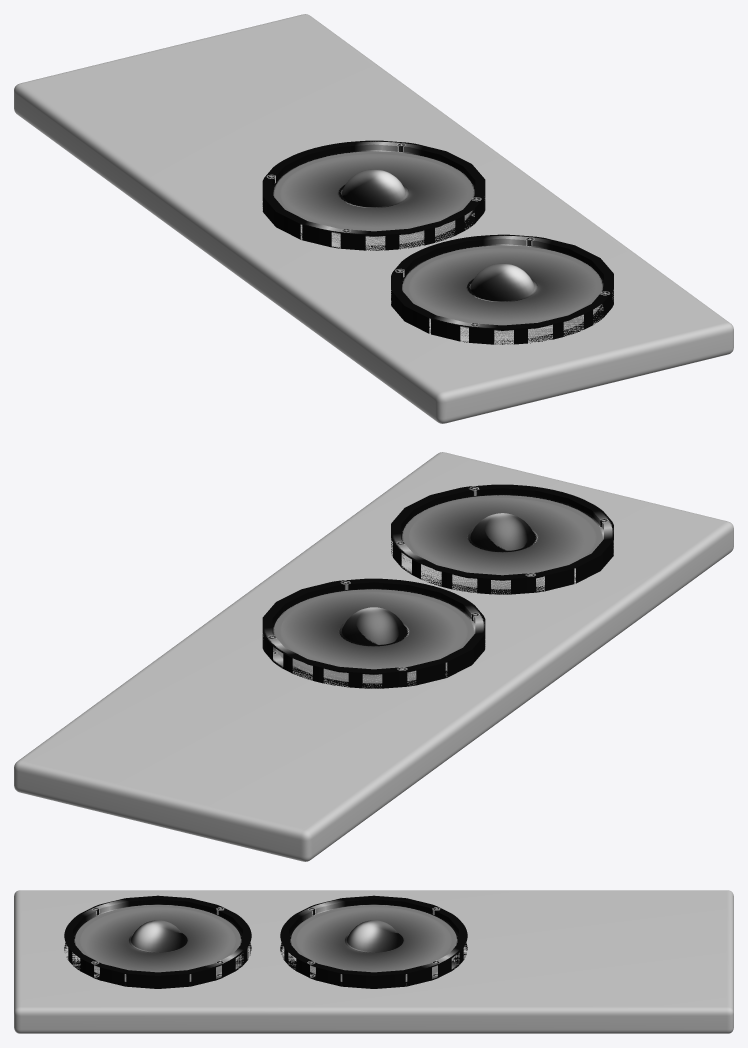
Rendered from wing.DAE.
The picture shows the model from 3 angles, top to bottom: view 1: azimuth 30°, elevation 25°; view 2: azimuth 150°, elevation 25°; view 3: azimuth 270°, elevation 25°; orthographic projection. The views are drawn at different scales.
Visible parts, largest first — view 1: Box001, Cylinder002, Cylinder001; view 2: Box001, Cylinder002, Cylinder001; view 3: Box001, Cylinder002, Cylinder001.
Boxes of the visible parts, left/top/right/bottom form: Box001: left=14, top=14, right=733, bottom=423; Cylinder002: left=262, top=140, right=485, bottom=250; Cylinder001: left=391, top=234, right=613, bottom=344; Box001: left=14, top=452, right=733, bottom=861; Cylinder002: left=262, top=578, right=485, bottom=688; Cylinder001: left=391, top=484, right=613, bottom=594; Box001: left=14, top=890, right=733, bottom=1033; Cylinder002: left=280, top=895, right=467, bottom=988; Cylinder001: left=64, top=895, right=251, bottom=988.
Bounding box in the file's own units: 1 × 0.2 × 2.5.
